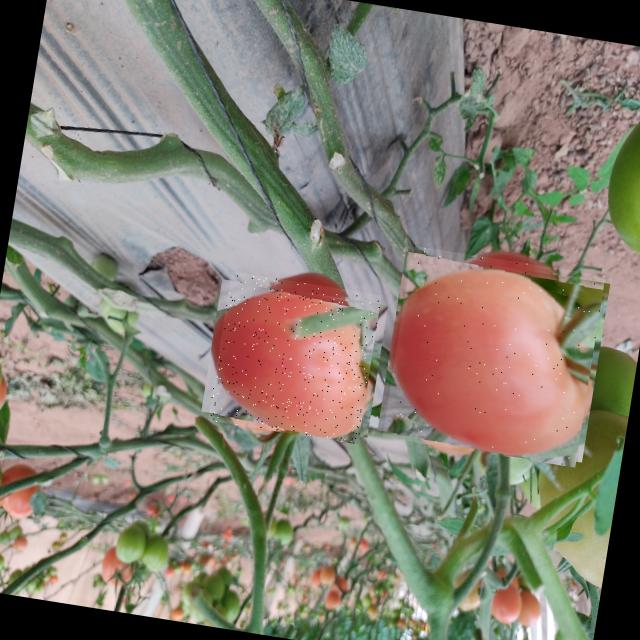Ripe Tomato: (382, 245, 606, 468), (208, 272, 382, 444)
